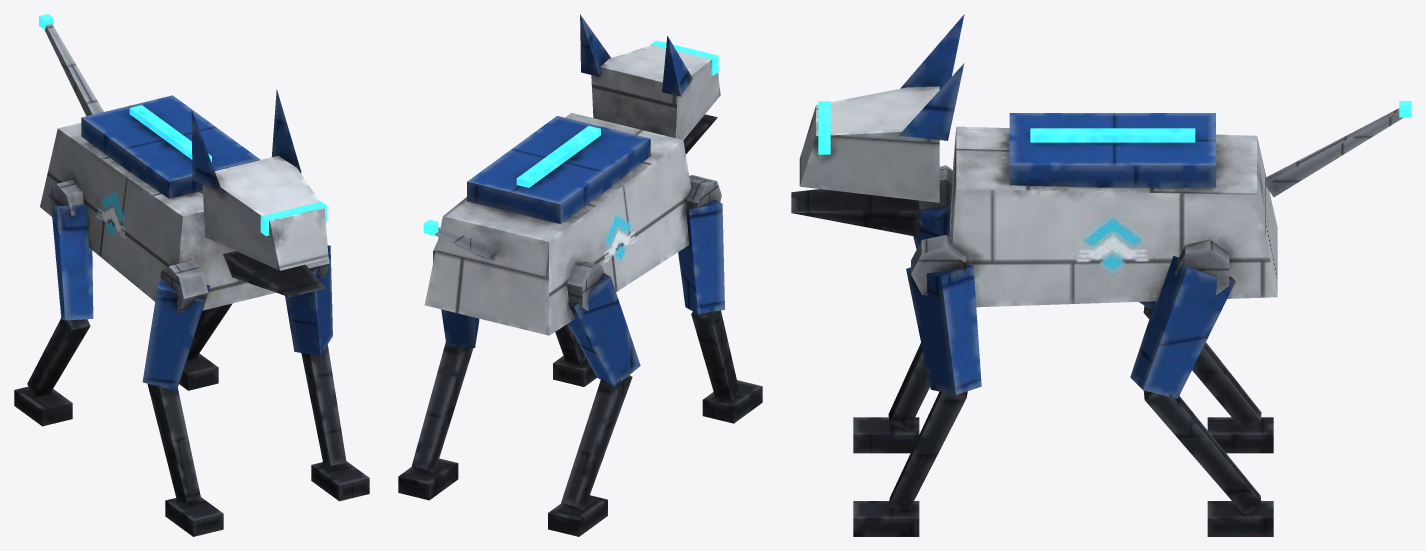
The model's file is s_hound_w.glb.
3 renders of one model, left to right at view 1: azimuth 30°, elevation 25°; view 2: azimuth 150°, elevation 25°; view 3: azimuth 270°, elevation 25°, orthographic. The views are drawn at different scales.
Parts seen in each view (by area): view 1: s_hound_w; view 2: s_hound_w; view 3: s_hound_w.
Part boxes in pixels (bbox=[...]): s_hound_w: bbox=[14, 14, 369, 536]; s_hound_w: bbox=[398, 14, 762, 536]; s_hound_w: bbox=[791, 14, 1411, 536].
Bounding box in the file's own units: 0.6263 × 1.2 × 1.5.
1 material, 1 textured.
